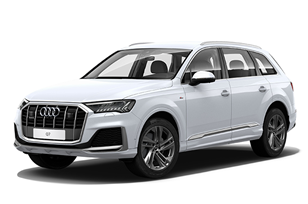car: (12, 32, 298, 180)
